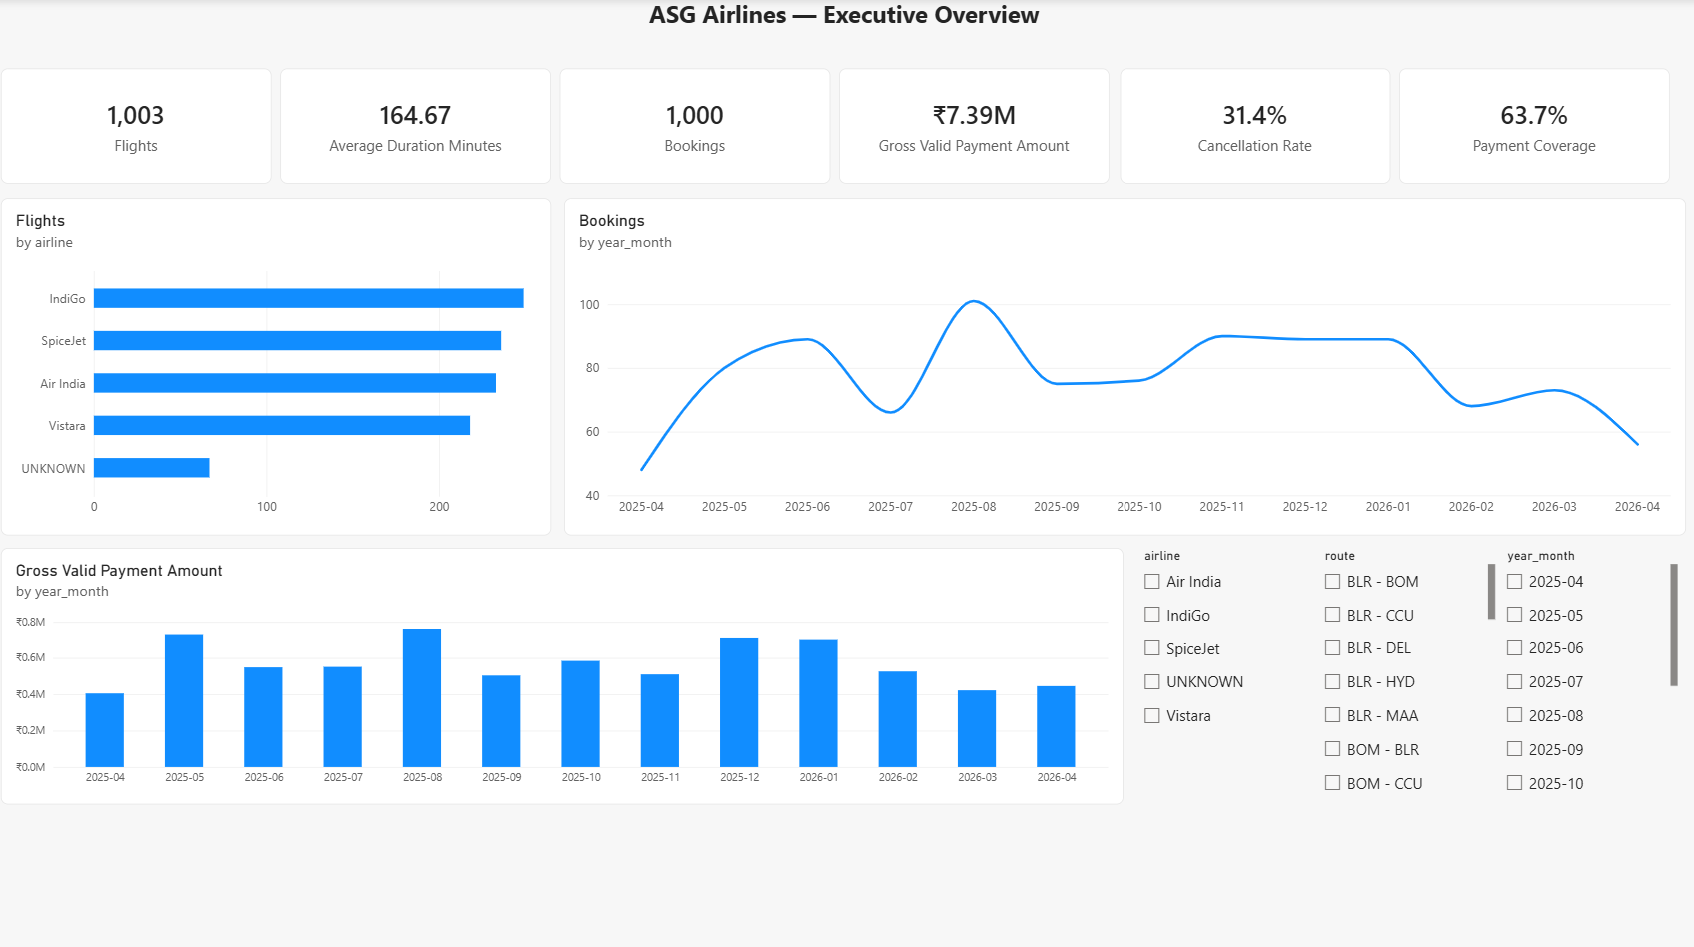

The page's visual inventory and layout, read from the dashboard file:
{"tool":"powerbi","page":{"name":"Executive Overview","canvas":[1920,1080],"ordinal":0},"visuals":[{"type":"textbox","box":[10,0,1900,70],"z":0},{"type":"card","fields":{"Values":["_Measures.Flights"]},"box":[10,80,305,130],"z":100},{"type":"card","fields":{"Values":["_Measures.Average Duration Minutes"]},"box":[325,80,305,130],"z":101},{"type":"card","fields":{"Values":["_Measures.Bookings"]},"box":[640,80,305,130],"z":102},{"type":"card","fields":{"Values":["_Measures.Gross Valid Payment Amount"]},"box":[955,80,305,130],"z":103},{"type":"card","fields":{"Values":["_Measures.Cancellation Rate"]},"box":[1270,80,305,130],"z":104},{"type":"card","fields":{"Values":["_Measures.Payment Coverage"]},"box":[1585,80,305,130],"z":105},{"type":"clusteredBarChart","fields":{"Category":["dim_airline.airline"],"Y":["_Measures.Flights"]},"box":[10,225,620,380],"z":200},{"type":"lineChart","fields":{"Category":["dim_booking_date.year_month"],"Y":["_Measures.Bookings"]},"box":[645,225,1265,380],"z":210},{"type":"clusteredColumnChart","fields":{"Category":["dim_booking_date.year_month"],"Y":["_Measures.Gross Valid Payment Amount"]},"box":[10,620,1265,290],"z":220},{"type":"slicer","fields":{"Values":["dim_airline.airline"]},"box":[1290,620,200,290],"z":300},{"type":"slicer","fields":{"Values":["dim_route.route"]},"box":[1495,620,200,290],"z":301},{"type":"slicer","fields":{"Values":["dim_booking_date.year_month"]},"box":[1700,620,200,290],"z":302}]}

Visuals, with their boxes in screenshot pixels (x1, y1, x2, y2), scaled from the page's 1920x1080 canvas onto the 1694x947 screenshot:
textbox: x1=9 y1=0 x2=1685 y2=61
card - _Measures.Flights: x1=9 y1=70 x2=278 y2=184
card - _Measures.Average Duration Minutes: x1=287 y1=70 x2=556 y2=184
card - _Measures.Bookings: x1=565 y1=70 x2=834 y2=184
card - _Measures.Gross Valid Payment Amount: x1=843 y1=70 x2=1112 y2=184
card - _Measures.Cancellation Rate: x1=1121 y1=70 x2=1390 y2=184
card - _Measures.Payment Coverage: x1=1398 y1=70 x2=1668 y2=184
clusteredBarChart - dim_airline.airline x _Measures.Flights: x1=9 y1=197 x2=556 y2=530
lineChart - dim_booking_date.year_month x _Measures.Bookings: x1=569 y1=197 x2=1685 y2=530
clusteredColumnChart - dim_booking_date.year_month x _Measures.Gross Valid Payment Amount: x1=9 y1=544 x2=1125 y2=798
slicer - dim_airline.airline: x1=1138 y1=544 x2=1315 y2=798
slicer - dim_route.route: x1=1319 y1=544 x2=1495 y2=798
slicer - dim_booking_date.year_month: x1=1500 y1=544 x2=1676 y2=798
